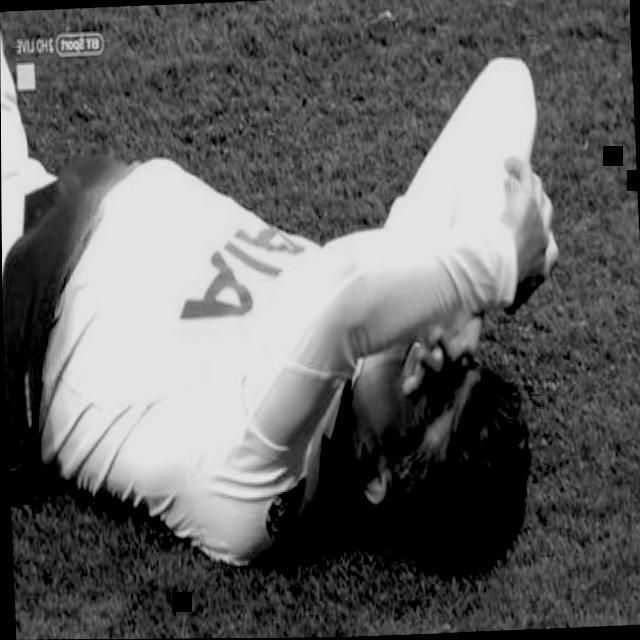Fall-Detected: (0, 0, 595, 631)
